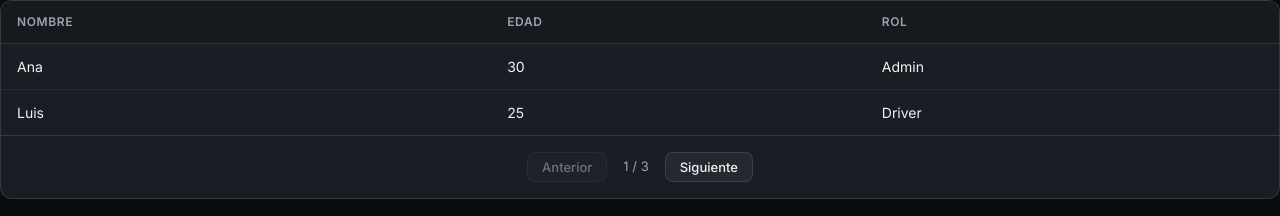
Test case: DataTable › navigates pages
expect the text "Ana" is shown: met, box 1,44 -> 491,90
Click the button "Siguiente".
click(709, 167)  # box 665,152 -> 753,182
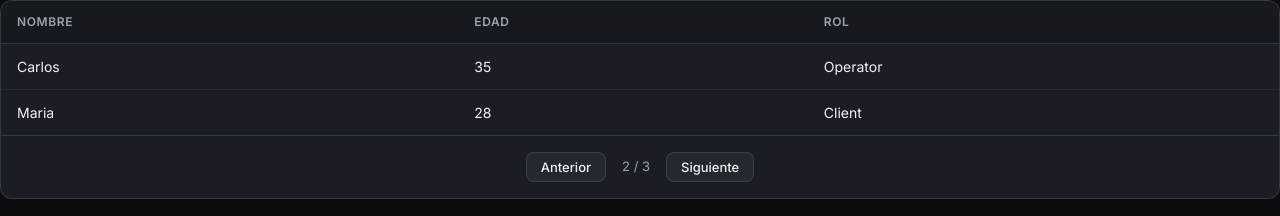
expect the text "Carlos" is shown: met, box 1,44 -> 458,90
expect the text "2 / 3" is shown: met, box 622,157 -> 650,177
